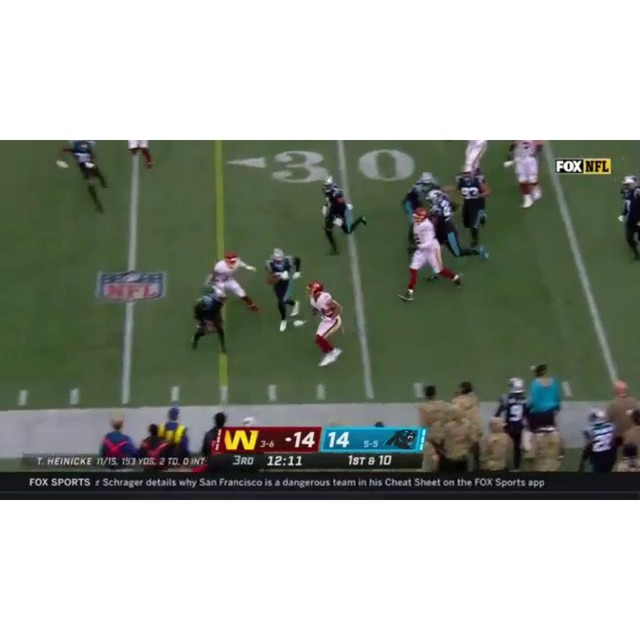american-football-player: (399, 207, 464, 301), (425, 187, 484, 262), (58, 141, 109, 215), (305, 280, 345, 368), (322, 179, 368, 255), (209, 251, 260, 314), (454, 169, 490, 256), (264, 248, 301, 330), (190, 285, 230, 352), (508, 141, 544, 210), (400, 171, 438, 224), (618, 175, 640, 262), (463, 140, 488, 174), (128, 140, 154, 171)
